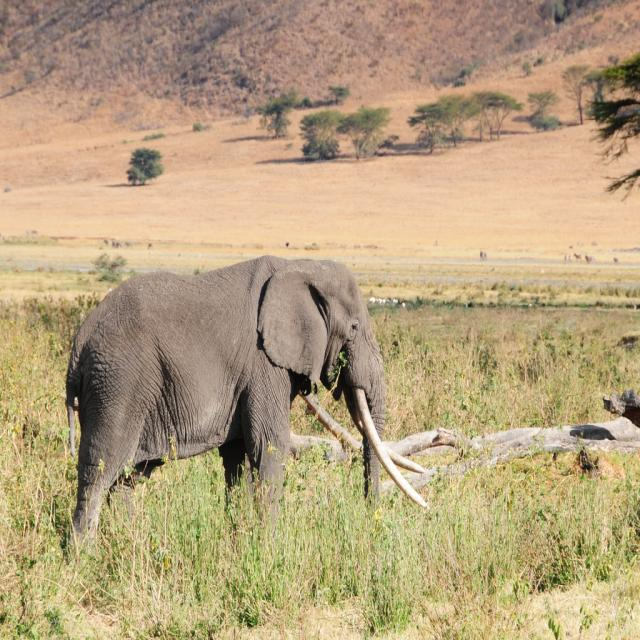elephant: (61, 252, 425, 544)
